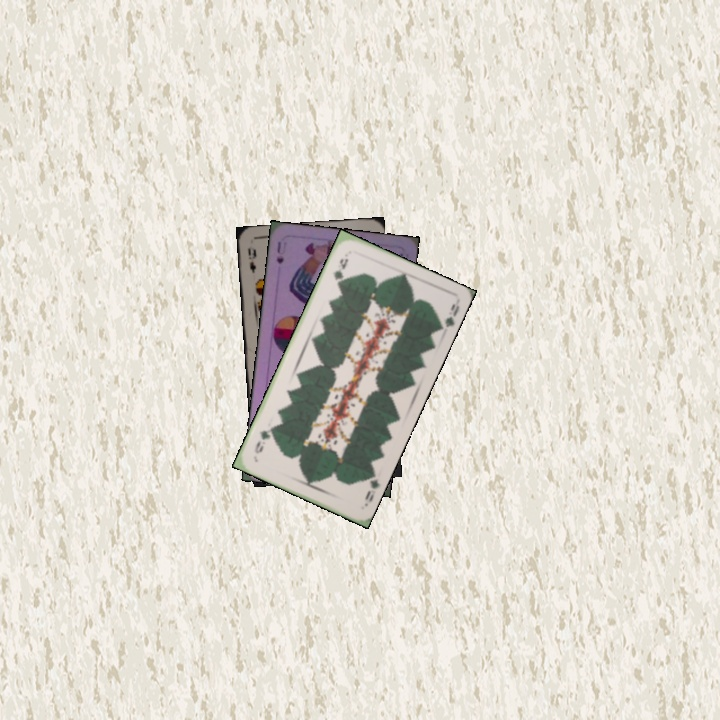E9: (244, 244, 259, 276)
G9: (361, 467, 382, 505), (329, 254, 351, 287)
SU: (272, 238, 289, 266)
